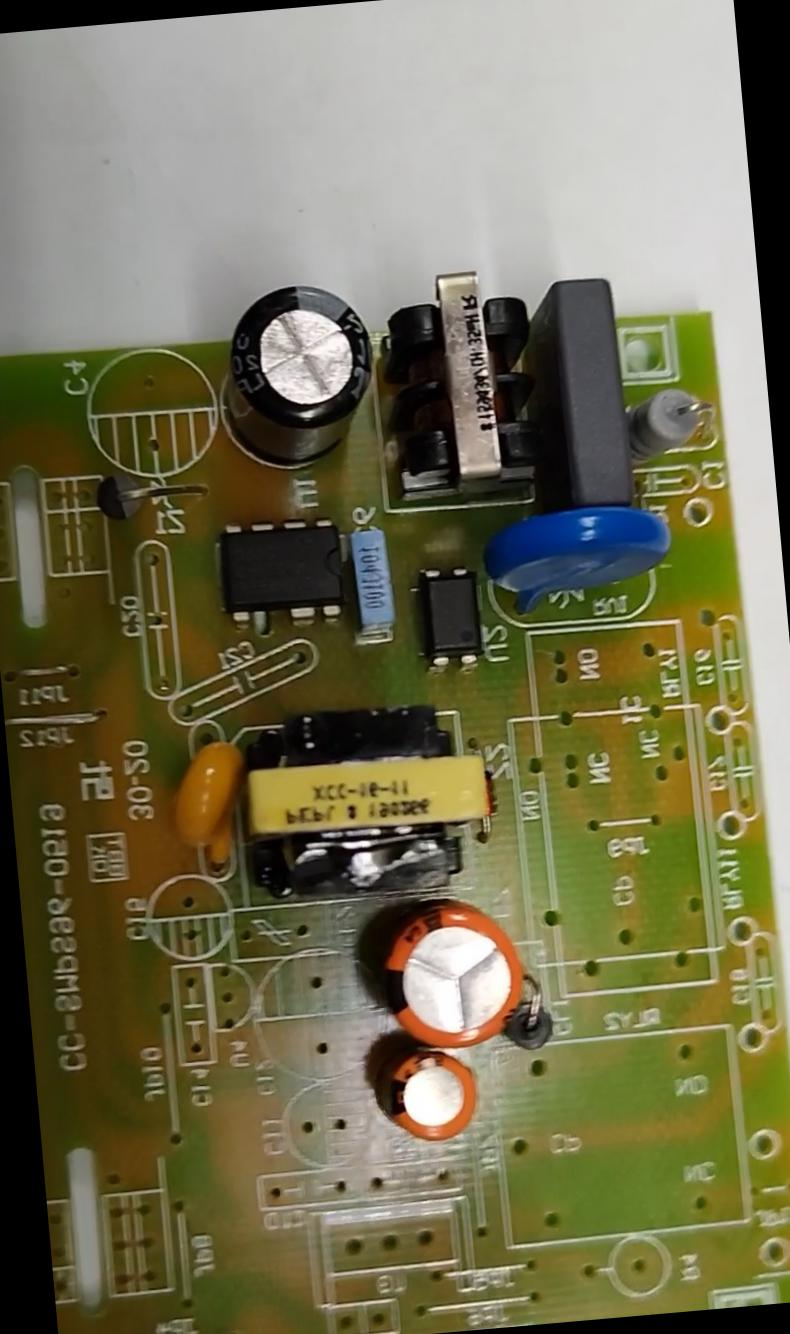Cap1: (382, 904, 526, 1052)
Cap2: (392, 1053, 476, 1143)
Cap3: (222, 272, 378, 467)
MOSFET: (217, 516, 343, 624)
Mov: (491, 492, 674, 608)
Resistor: (627, 386, 717, 458)
Transformer: (242, 708, 486, 894), (393, 266, 538, 480)
